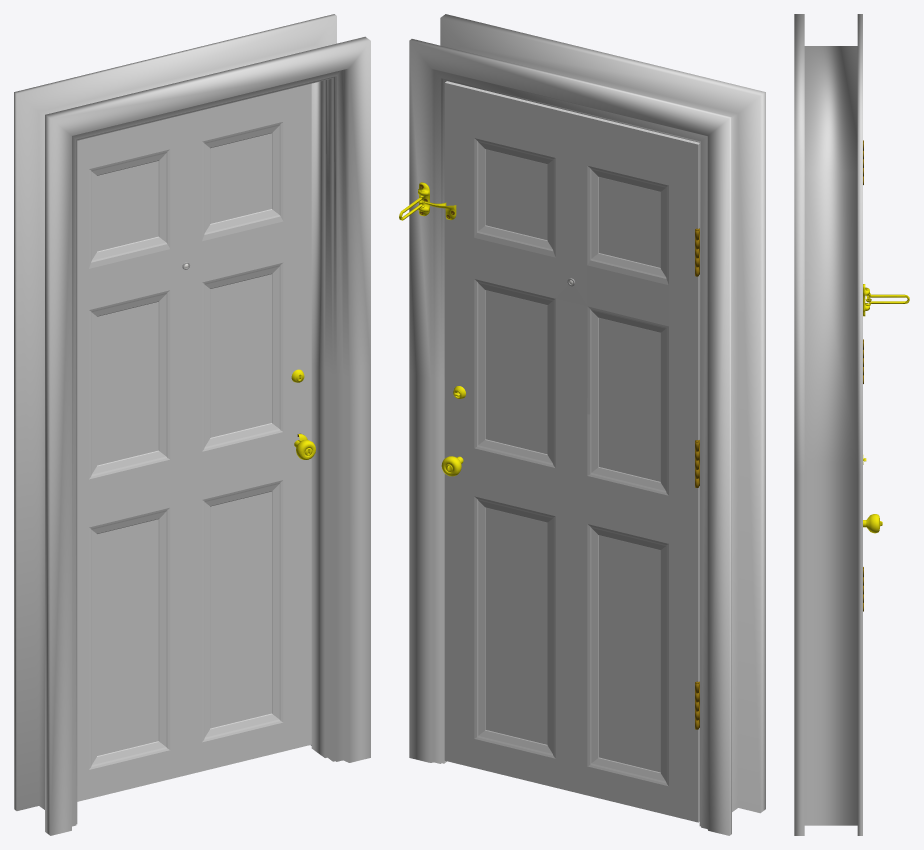
File: FrontDoor.gltf
3 renders of one model, left to right at view 1: azimuth 30°, elevation 25°; view 2: azimuth 150°, elevation 25°; view 3: azimuth 270°, elevation 25°, orthographic. The views are drawn at different scales.
Parts seen in each view (by area): view 1: Front_Door, Front_Door_Frame; view 2: Front_Door, Front_Door_Frame; view 3: Front_Door_Frame, Limiter_Latch, Front_Doorknob.
Part boxes in pixels (bbox=[...]): Front_Door: bbox=[77, 83, 311, 801]; Front_Door_Frame: bbox=[14, 14, 370, 835]; Front_Door: bbox=[444, 81, 699, 822]; Front_Door_Frame: bbox=[409, 14, 765, 835]; Front_Door_Frame: bbox=[794, 14, 862, 835]; Limiter_Latch: bbox=[865, 289, 909, 305]; Front_Doorknob: bbox=[863, 514, 882, 533].
Bounding box in the file's own units: 3.27 × 7 × 1.08.
